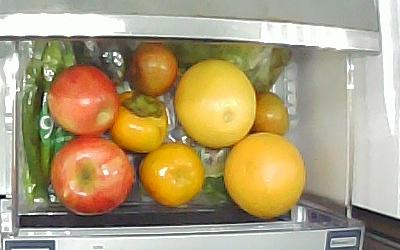apple: (50, 136, 135, 215), (45, 64, 119, 136)
grapefruit: (174, 59, 257, 149), (224, 132, 307, 218)
persimmon: (138, 143, 205, 208), (109, 92, 167, 152)
prune: (129, 43, 177, 96), (254, 92, 290, 137)
